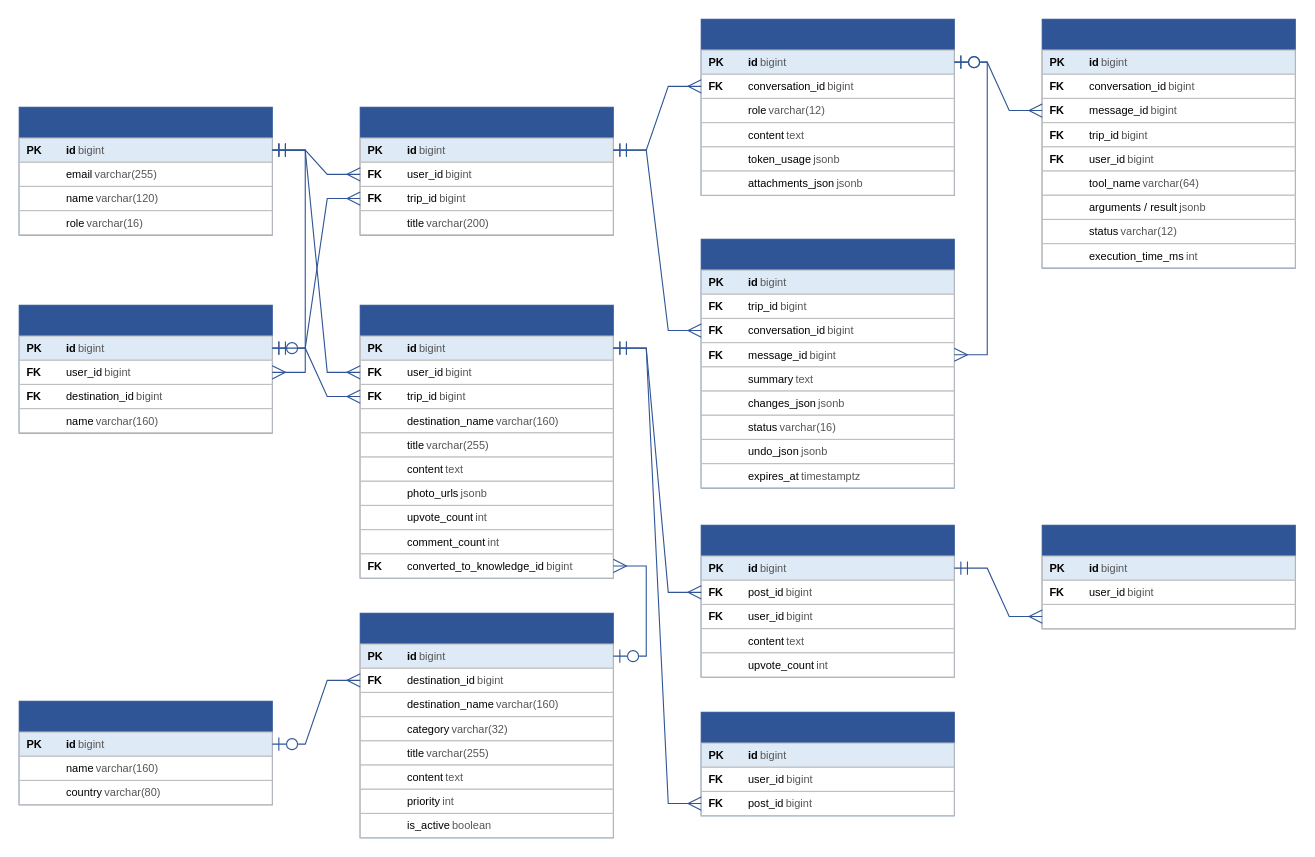
The diagram is 1315 pixels wide and 857 high, and some of its shapes have lost their labels. The shapes that lost their labels are listed below. From the top down, each one's box as (x1, y1, x2, y2) in pixels, then its label:
(700, 18, 954, 195): messages
(1041, 18, 1295, 268): ai_tool_executions
(18, 106, 272, 235): users
(359, 106, 613, 235): conversations
(18, 304, 272, 433): trips
(700, 238, 954, 488): ai_proposals
(359, 304, 613, 578): blog_posts
(1041, 524, 1295, 629): blog_comment_upvotes
(700, 524, 954, 677): blog_comments
(1041, 603, 1295, 629): FK comment_id bigint
(359, 612, 613, 838): destination_knowledge
(18, 700, 272, 805): destinations
(700, 711, 954, 816): blog_post_upvotes
